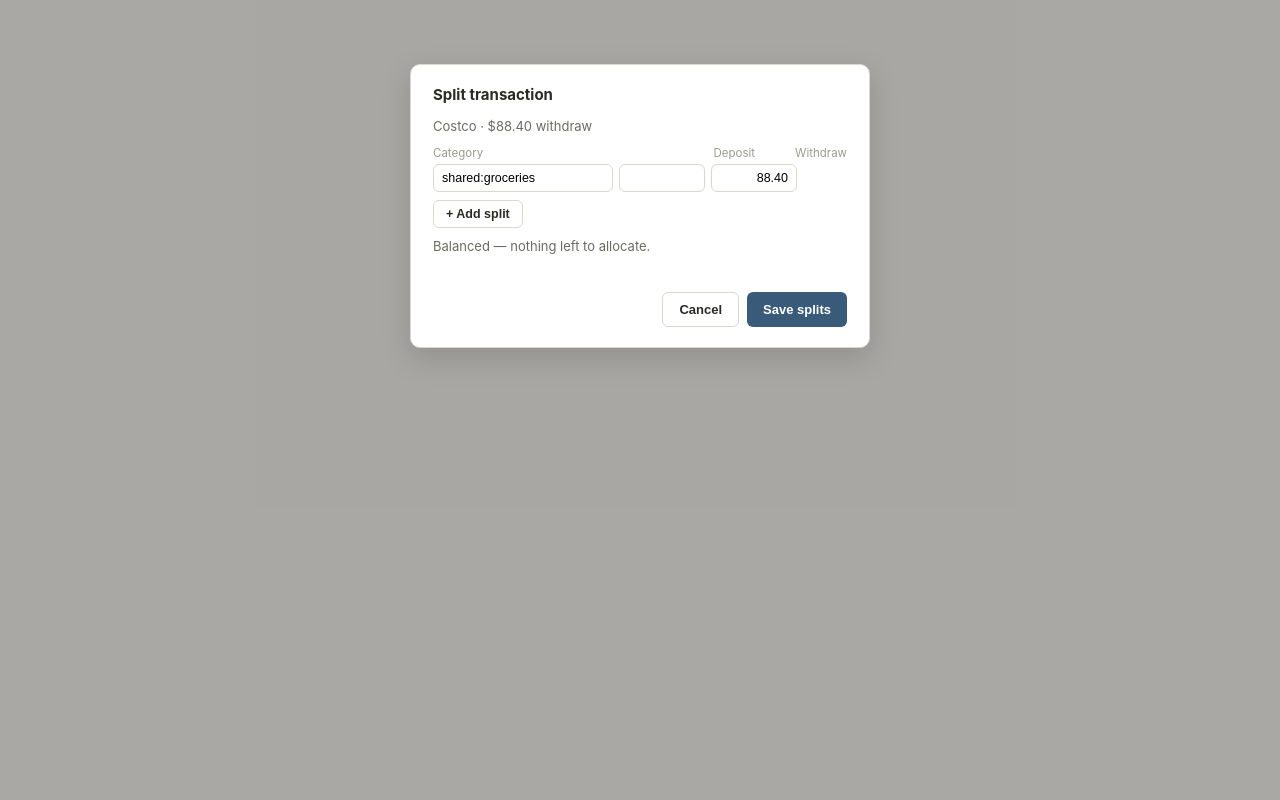
Scenario: SplitModal › reports an over-allocation as remaining in the opposite direction
The image size is (1280, 800).
Replace the text in the field named "Withdraw" with "100" at (754, 178), box [711,164,797,192]
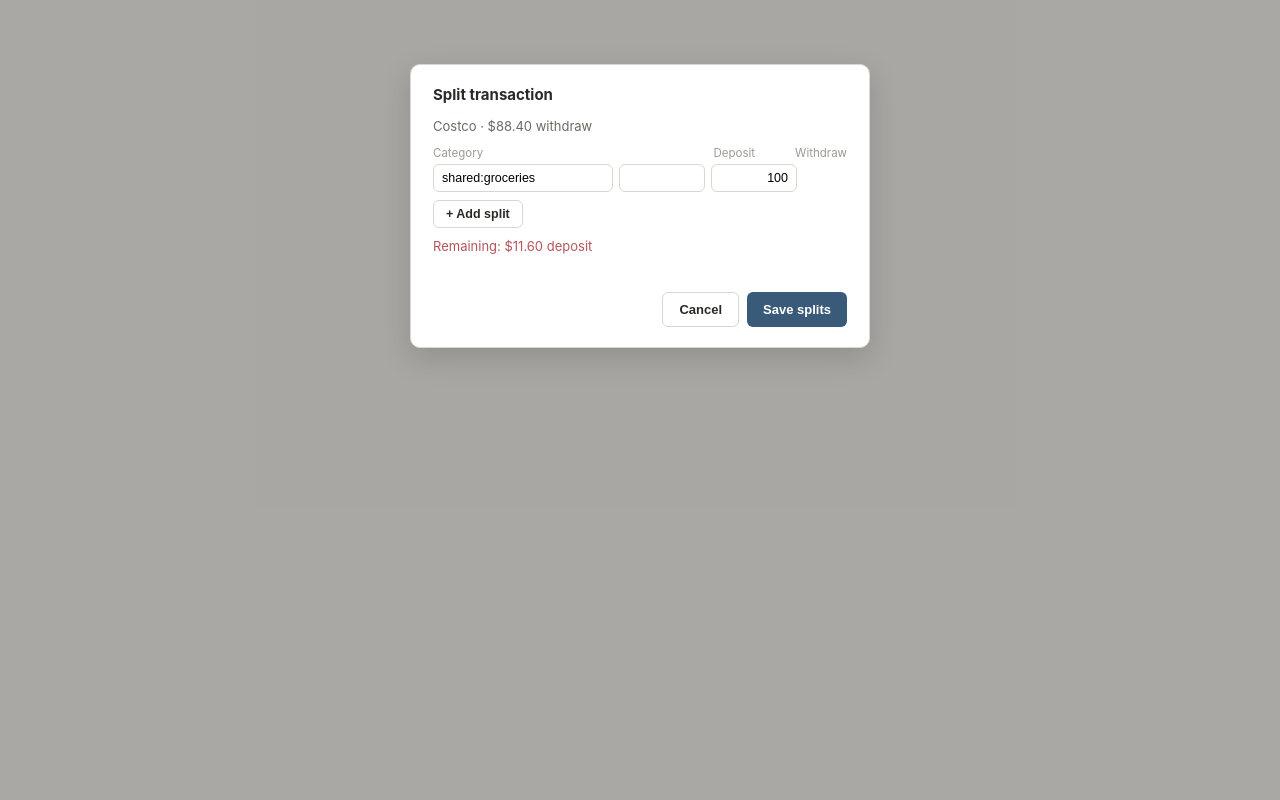
expect the text with test id "split-remaining" reads "Remaining: $11.60 deposit": met, box [433,238,592,254]
